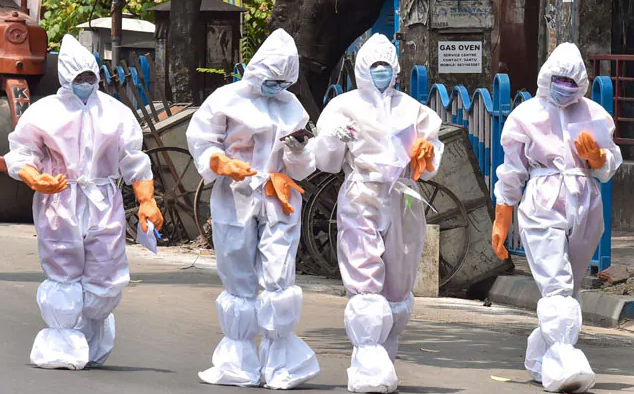Coverall: (6, 35, 158, 346), (191, 29, 317, 374), (318, 34, 442, 377), (498, 40, 620, 380)
Gloves: (131, 181, 165, 238), (20, 167, 70, 197), (490, 204, 516, 259), (573, 133, 605, 172), (217, 157, 257, 186)
with_mask: (547, 74, 583, 107), (369, 59, 394, 91), (71, 73, 96, 102)
